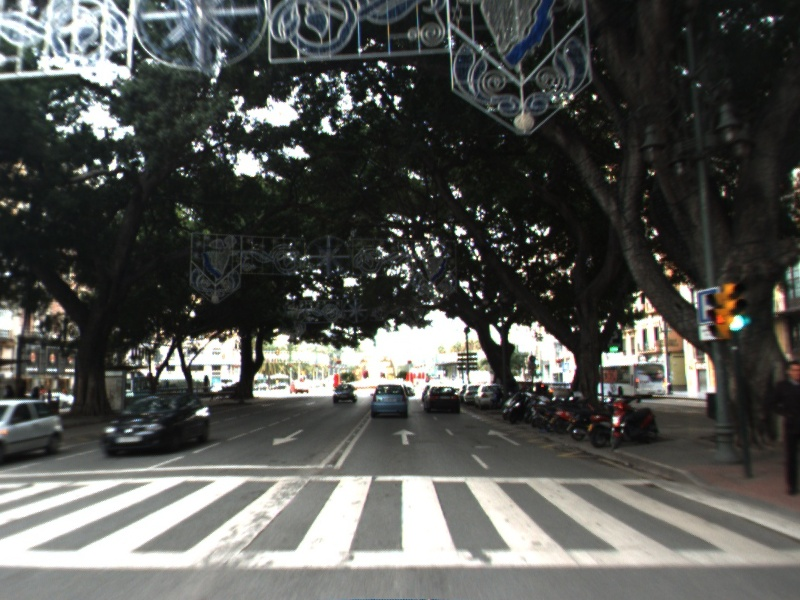STRAIGHT: (485, 427, 523, 447), (390, 426, 418, 446)
